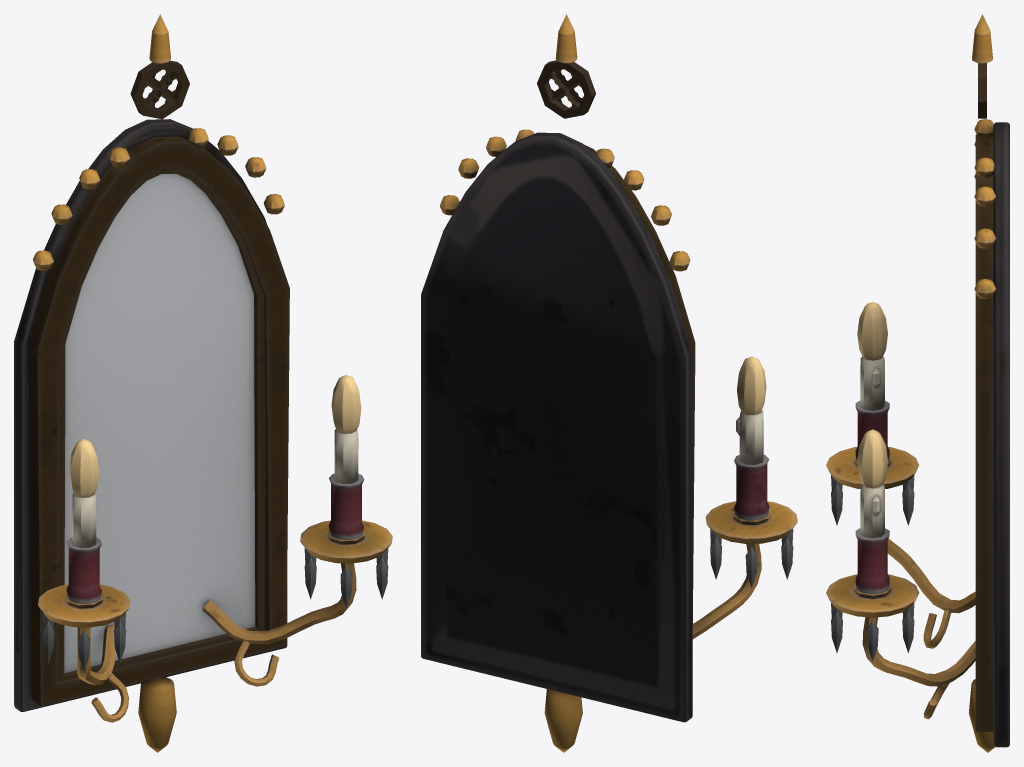
The model's file is SconceMirror.fbx.
3 views of the same model, side by side, from view 1: azimuth 30°, elevation 25°; view 2: azimuth 150°, elevation 25°; view 3: azimuth 270°, elevation 25° (orthographic).
Visible parts, largest first — view 1: SconceMirror_Main, SconceMirror_Mirror, SconceMirror_Glow, SconceMirror_Glass; view 2: SconceMirror_Main, SconceMirror_Glow, SconceMirror_Glass; view 3: SconceMirror_Main, SconceMirror_Glow, SconceMirror_Glass.
Boxes of the visible parts, x1=… form: SconceMirror_Main: x1=14, y1=14, x2=392, y2=752; SconceMirror_Mirror: x1=64, y1=173, x2=255, y2=673; SconceMirror_Glow: x1=69, y1=375, x2=361, y2=497; SconceMirror_Glass: x1=42, y1=548, x2=388, y2=671; SconceMirror_Main: x1=421, y1=14, x2=797, y2=752; SconceMirror_Glow: x1=737, y1=356, x2=766, y2=414; SconceMirror_Glass: x1=710, y1=529, x2=793, y2=588; SconceMirror_Main: x1=826, y1=14, x2=1009, y2=752; SconceMirror_Glow: x1=857, y1=302, x2=887, y2=488; SconceMirror_Glass: x1=831, y1=475, x2=914, y2=661.
Size of the model in its own units: 145 by 297 by 67.
